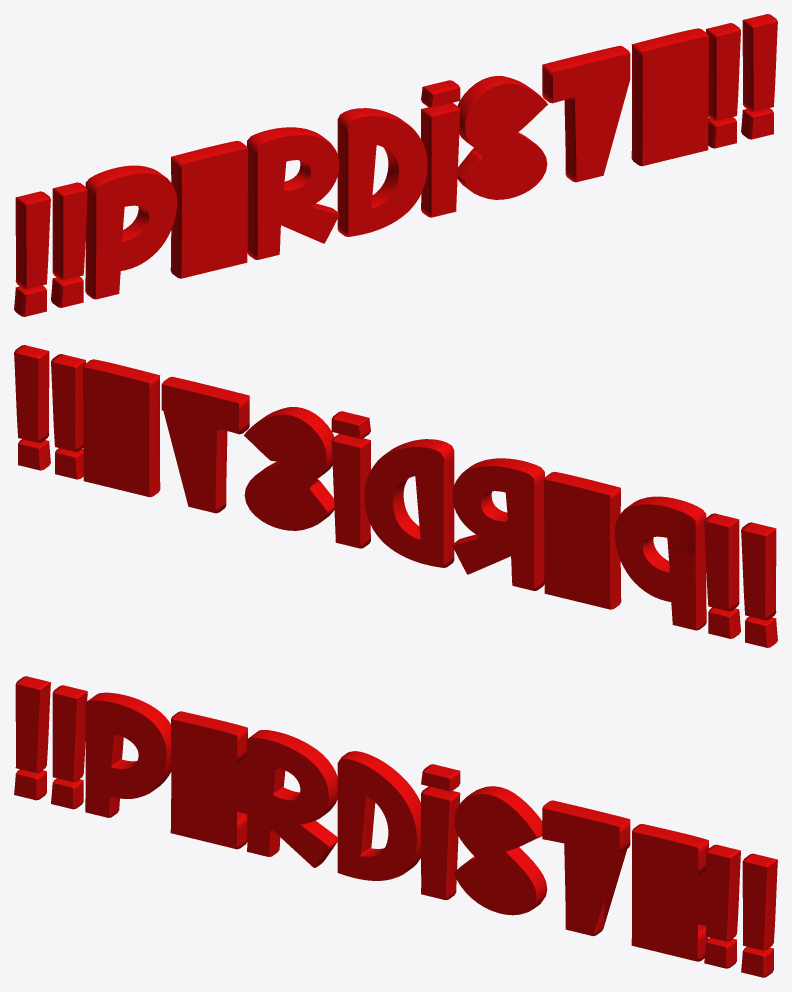
File: perdiste.fbx
3 renders of one model, top to bottom at view 1: azimuth 30°, elevation 25°; view 2: azimuth 150°, elevation 25°; view 3: azimuth 330°, elevation 25°, orthographic.
Visible parts, largest first — view 1: polySurface1; view 2: polySurface1; view 3: polySurface1.
Part boxes in pixels (x1=…): polySurface1: x1=14, y1=14, x2=777, y2=316; polySurface1: x1=14, y1=345, x2=777, y2=647; polySurface1: x1=14, y1=676, x2=777, y2=977.
Bounding box in the file's own units: 18.45 × 2.91 × 0.45.
